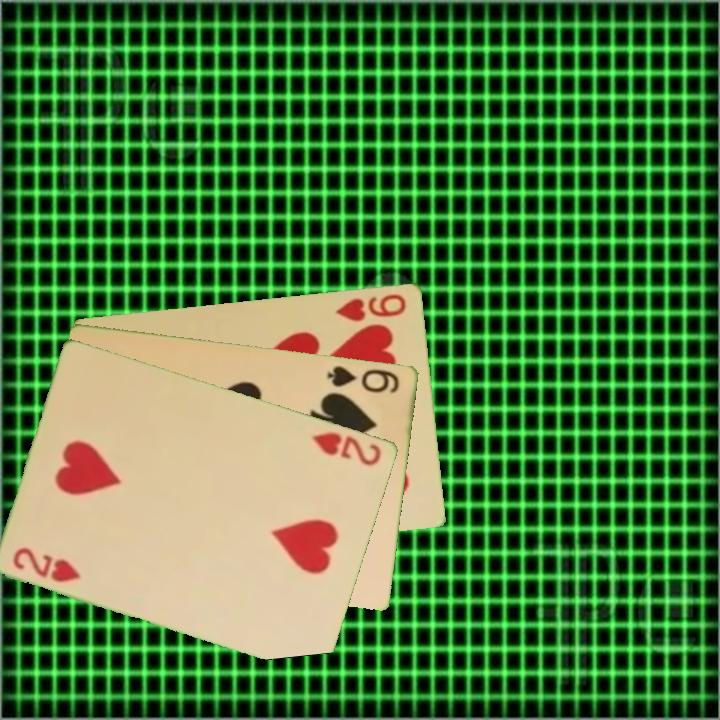2h: (308, 428, 385, 469), (9, 543, 84, 585)
6s: (324, 361, 403, 396)
9h: (333, 289, 409, 324)
